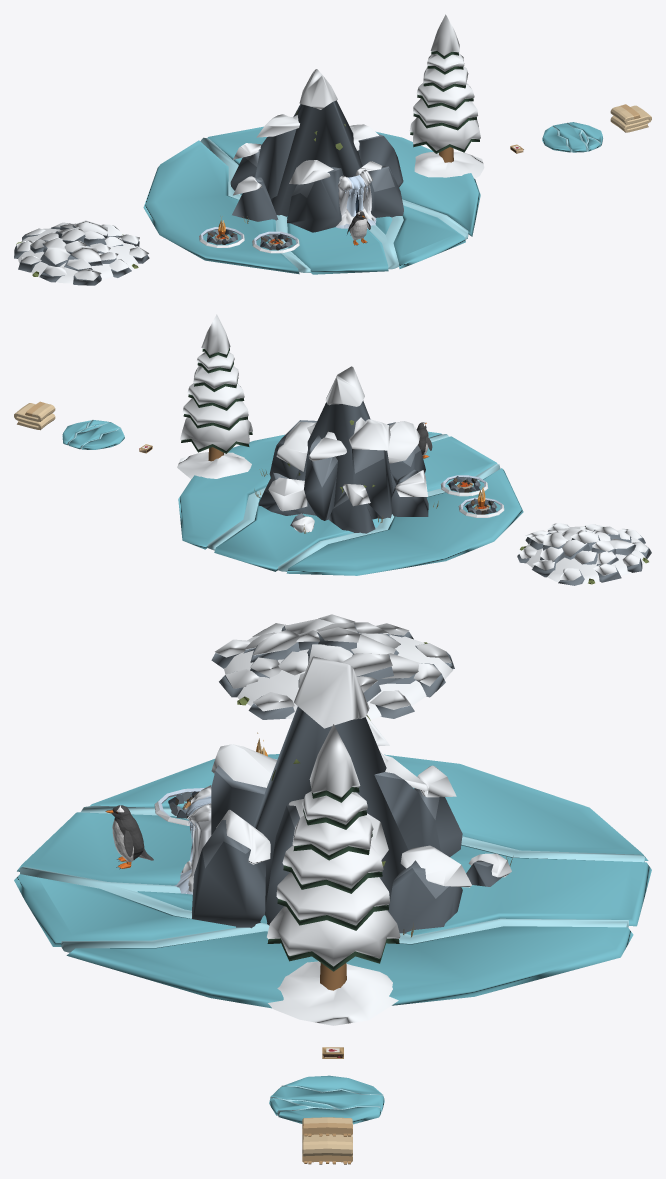
The model's file is chilli_willi.glb.
The picture shows the model from 3 angles, top to bottom: view 1: azimuth 30°, elevation 25°; view 2: azimuth 150°, elevation 25°; view 3: azimuth 270°, elevation 25°; orthographic projection. The views are drawn at different scales.
Visible parts, largest first — view 1: Pltaforma de la casita, Casa, Pino, plataforma extra, paltaformas de hielito, Cobija, Fogata Apagada, Fogata prendida, Pinguino; view 2: Pltaforma de la casita, Casa, Pino, plataforma extra, paltaformas de hielito, Cobija, Fogata prendida, Fogata Apagada; view 3: Pltaforma de la casita, Casa, Pino, plataforma extra, paltaformas de hielito, Cobija, Pinguino, Fogata Apagada.
Part boxes in pixels (bbox=[...]): Pltaforma de la casita: bbox=[143, 126, 480, 274]; Casa: bbox=[230, 69, 403, 232]; Pino: bbox=[409, 14, 484, 178]; plataforma extra: bbox=[14, 220, 149, 285]; paltaformas de hielito: bbox=[542, 122, 603, 152]; Cobija: bbox=[610, 104, 651, 132]; Fogata Apagada: bbox=[252, 231, 299, 253]; Fogata prendida: bbox=[199, 216, 244, 247]; Pinguino: bbox=[347, 210, 370, 245]; Pltaforma de la casita: bbox=[178, 431, 523, 575]; Casa: bbox=[254, 366, 438, 533]; Pino: bbox=[177, 314, 252, 479]; plataforma extra: bbox=[517, 523, 651, 585]; paltaformas de hielito: bbox=[62, 420, 124, 449]; Cobija: bbox=[14, 401, 55, 430]; Fogata prendida: bbox=[458, 484, 504, 517]; Fogata Apagada: bbox=[441, 475, 488, 496]; Pltaforma de la casita: bbox=[14, 754, 651, 1008]; Casa: bbox=[174, 656, 513, 937]; Pino: bbox=[267, 724, 400, 1025]; plataforma extra: bbox=[211, 614, 454, 720]; paltaformas de hielito: bbox=[269, 1075, 384, 1124]; Cobija: bbox=[302, 1117, 352, 1164]; Pinguino: bbox=[105, 805, 153, 869]; Fogata Apagada: bbox=[154, 788, 204, 825].
Size of the model in its own units: 10.31 by 2.45 by 5.18.
